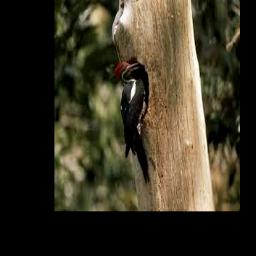Woodpecker: (115, 61, 150, 183)
